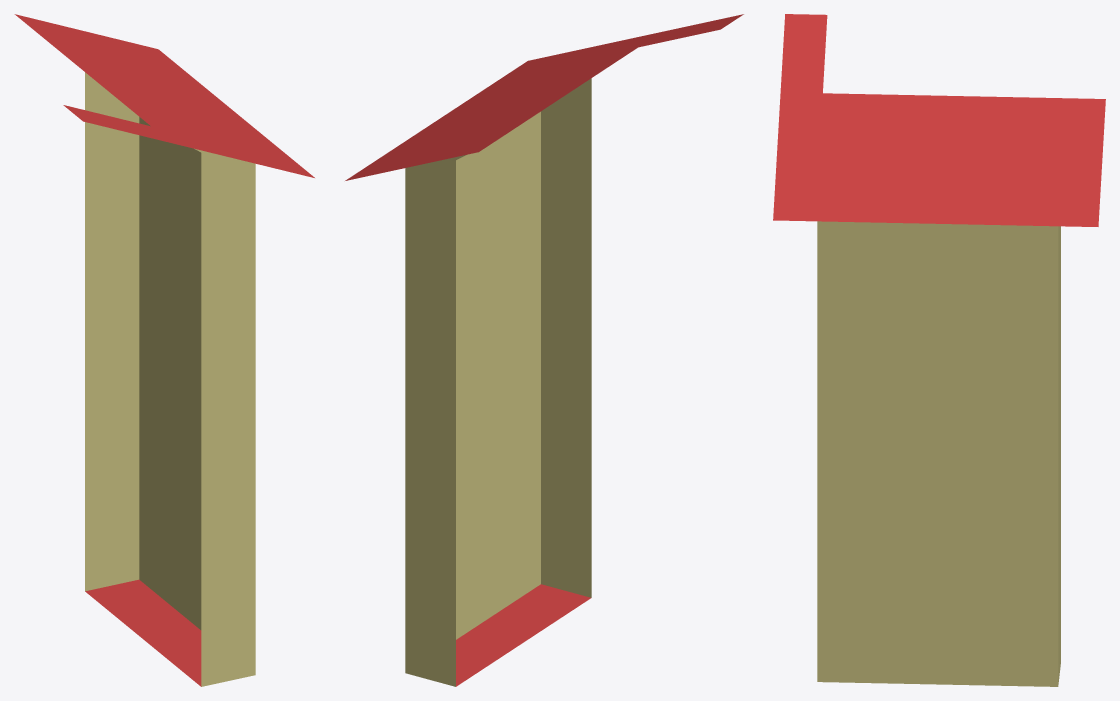
The picture shows the model from 3 angles, left to right: view 1: azimuth 30°, elevation 25°; view 2: azimuth 150°, elevation 25°; view 3: azimuth 270°, elevation 25°; orthographic projection. The views are drawn at different scales.
Size of the model in its own units: 4.67 by 5.9 by 11.35.
